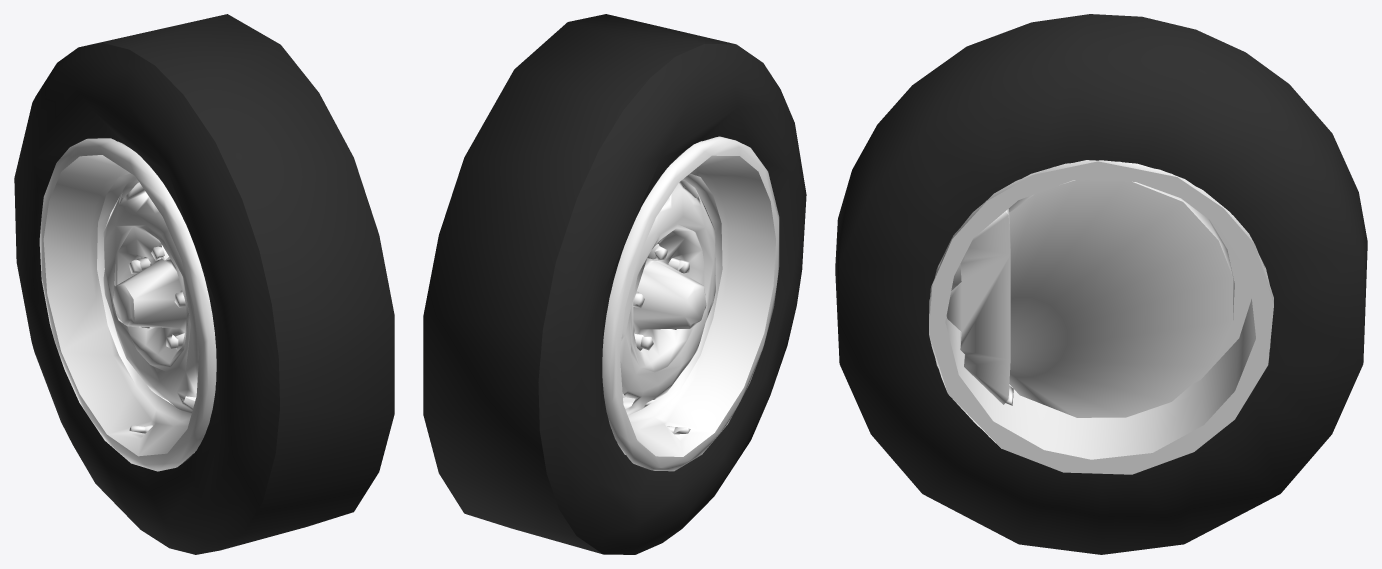
Rendered from cartypewheel0model.obj.
3 views of the same model, side by side, from view 1: azimuth 30°, elevation 25°; view 2: azimuth 150°, elevation 25°; view 3: azimuth 270°, elevation 25° (orthographic).
Visible parts, largest first — view 1: cartypewheel0model_Wheel.004; view 2: cartypewheel0model_Wheel.004; view 3: cartypewheel0model_Wheel.004.
Boxes of the visible parts, x1,y1,x2,y2 form: cartypewheel0model_Wheel.004: (14,14,394,554); cartypewheel0model_Wheel.004: (423,14,806,554); cartypewheel0model_Wheel.004: (835,14,1367,554).
Size of the model in its own units: 0.2171 by 0.627 by 0.6265.
